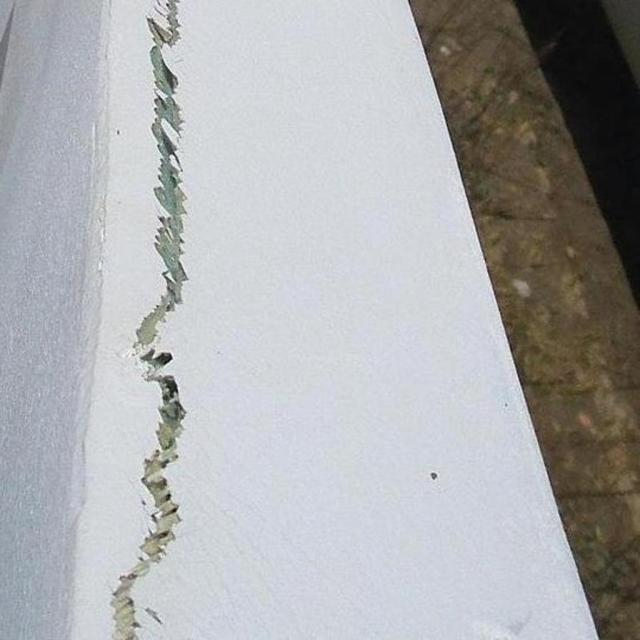crack: (108, 8, 184, 630)
